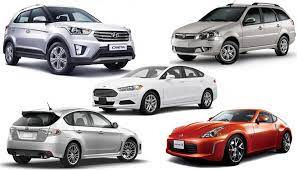Automovil: (2, 107, 143, 164), (91, 67, 221, 112)
Camioneta: (5, 5, 135, 71), (171, 1, 294, 67)
Deportivo: (164, 105, 293, 162)
